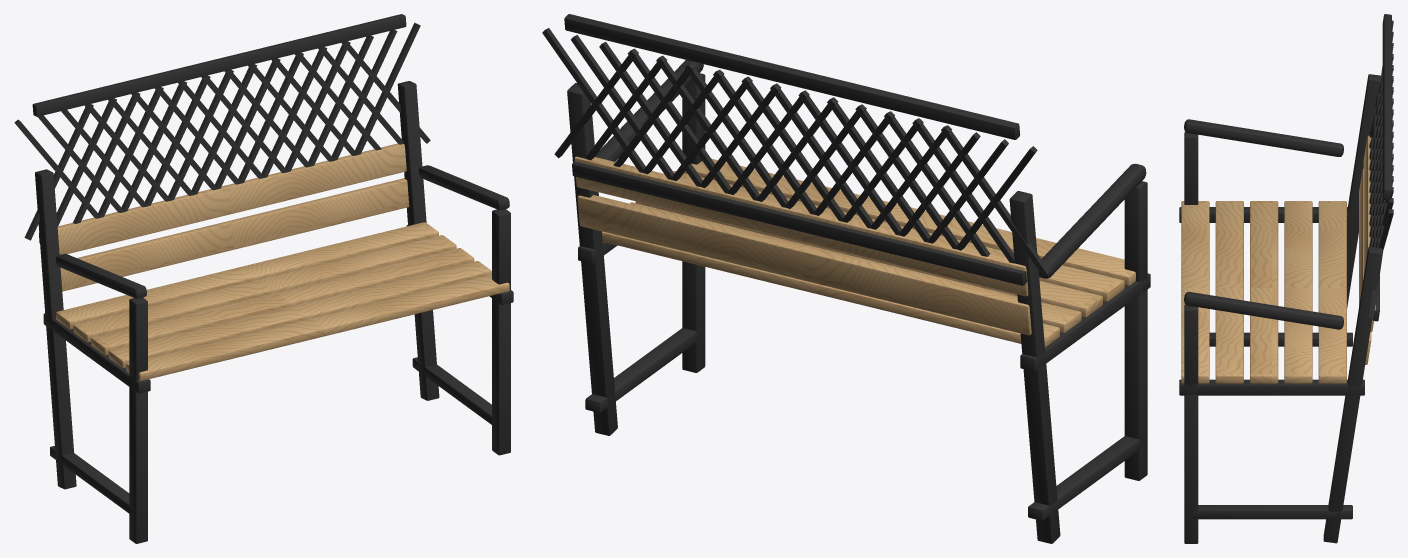
Rendered from bench-restore.glb.
3 views of the same model, side by side, from view 1: azimuth 30°, elevation 25°; view 2: azimuth 150°, elevation 25°; view 3: azimuth 270°, elevation 25° (orthographic). The views are drawn at different scales.
Visible parts, largest first — view 1: Restored bench; view 2: Restored bench; view 3: Restored bench.
Boxes of the visible parts, <box> form: Restored bench: <box>14,14,513,543</box>; Restored bench: <box>542,14,1150,543</box>; Restored bench: <box>1179,14,1393,543</box>.
Size of the model in its own units: 1.13 by 0.9658 by 0.531.
Materials: 2 (1 with a texture image).
